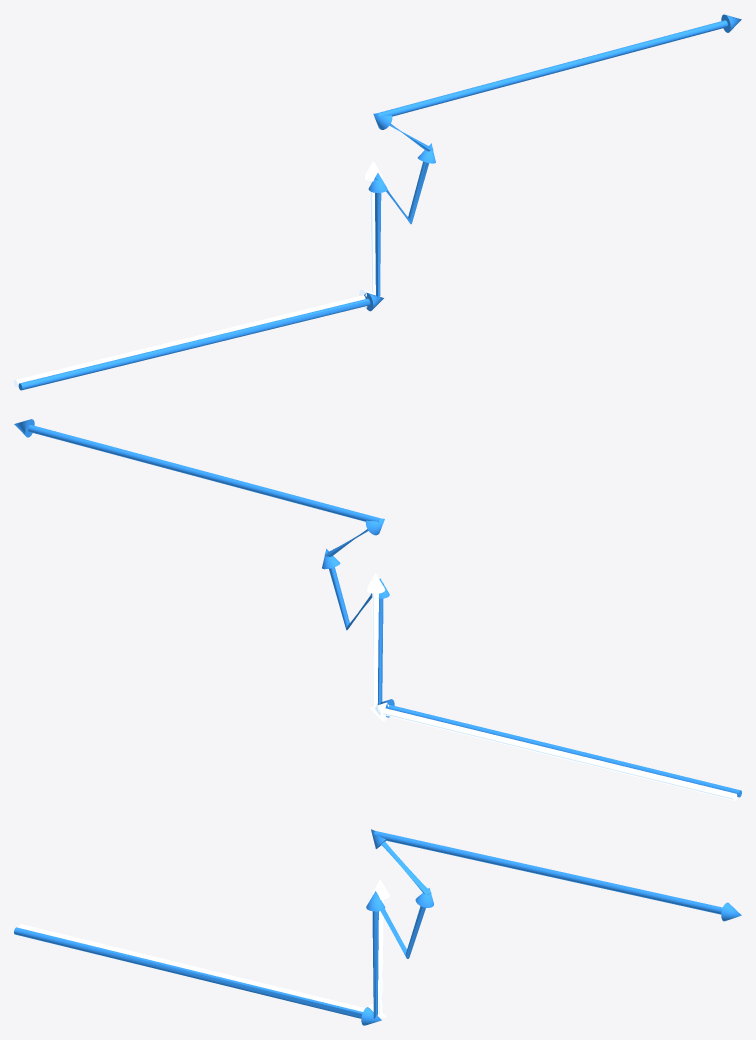
Rendered from steam_trap_flow.glb.
The picture shows the model from 3 angles, top to bottom: view 1: azimuth 30°, elevation 25°; view 2: azimuth 150°, elevation 25°; view 3: azimuth 330°, elevation 25°; orthographic projection.
Parts seen in each view (by area): view 1: condensate.001, steam; view 2: condensate.001, steam; view 3: condensate.001, steam.
Part boxes in pixels (x1,y1,x2,y2): condensate.001: (18, 14, 741, 390); steam: (14, 161, 382, 386); condensate.001: (14, 419, 741, 797); steam: (366, 573, 737, 800); condensate.001: (14, 829, 741, 1025); steam: (18, 879, 389, 1018).
Bounding box in the file's own units: 0.908 × 0.2505 × 0.0308.
